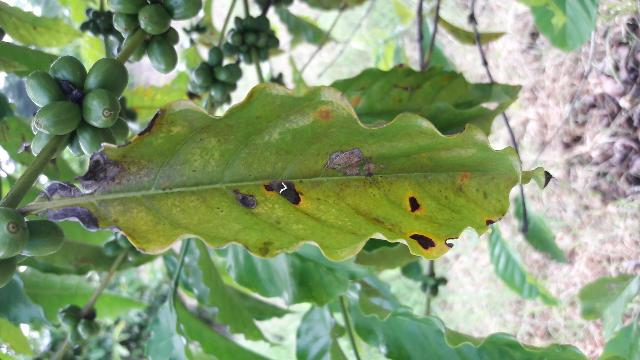red_spider_mite: (39, 86, 518, 257)
